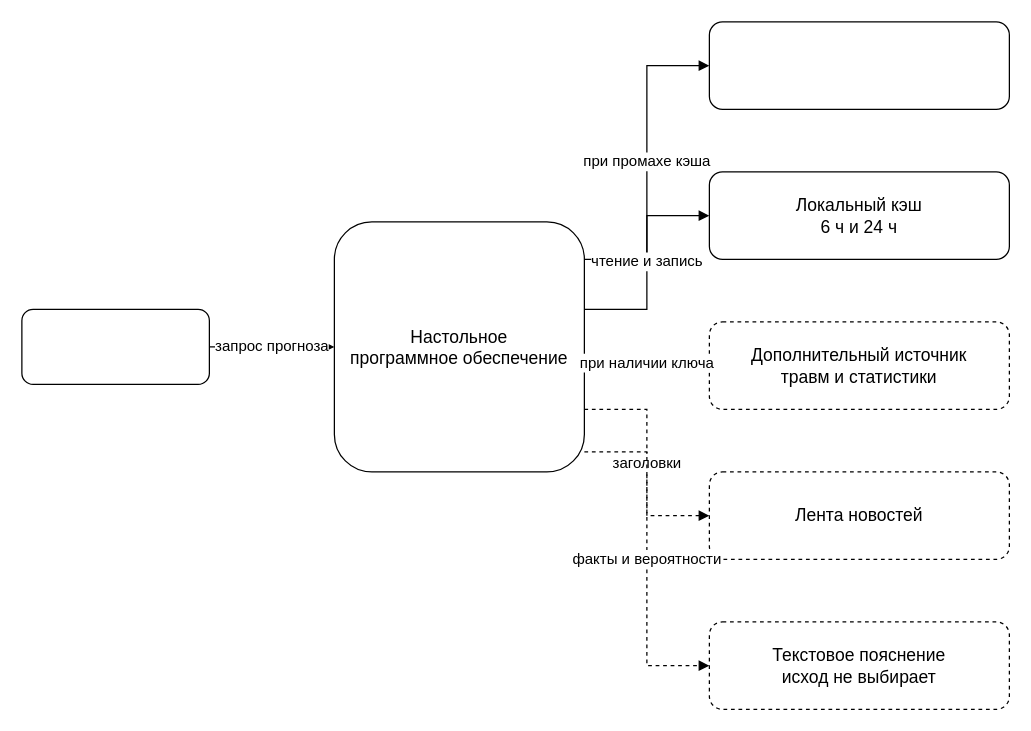
The diagram is 1031 pixels wide and 731 high, and some of its shapes have lost their labels. The centre of each missing label's shape, as x and y in pixels:
"Источник календаря и протоколов" belongs at (858,65).
"Пользователь" belongs at (115,346).
